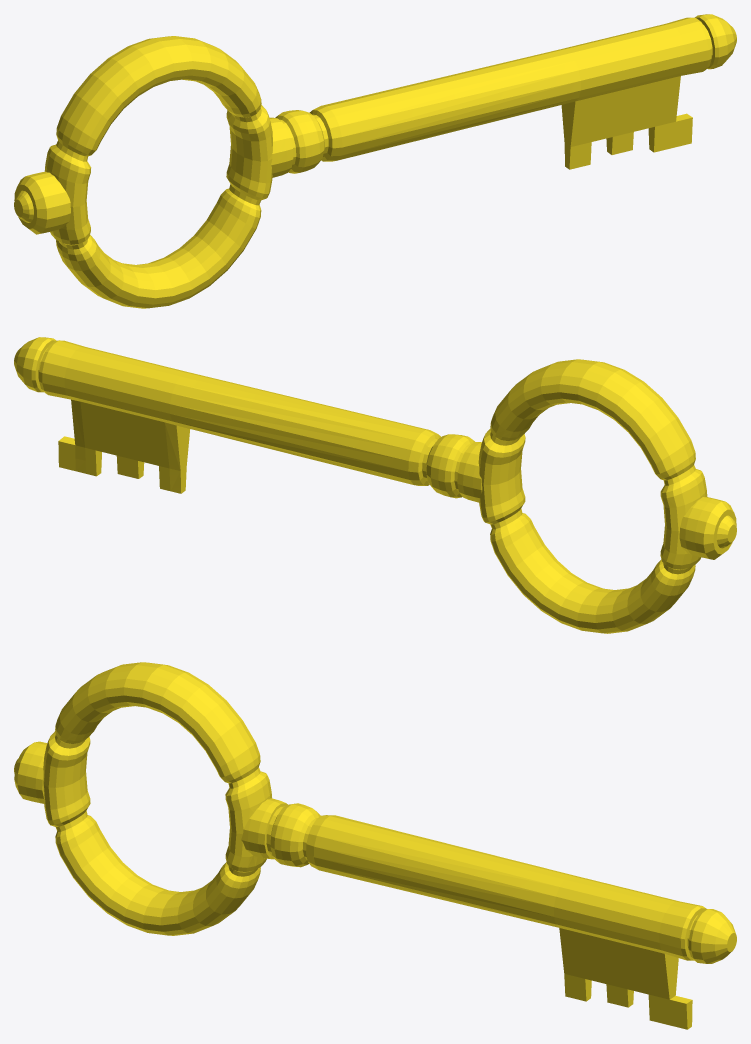
File: key.fbx
3 views of the same model, one above another, from view 1: azimuth 30°, elevation 25°; view 2: azimuth 150°, elevation 25°; view 3: azimuth 330°, elevation 25° (orthographic).
Parts seen in each view (by area): view 1: key; view 2: key; view 3: key.
Boxes of the visible parts, <box> form: key: <box>14,14,736,308</box>; key: <box>14,337,736,633</box>; key: <box>14,662,736,1029</box>.
Size of the model in its own units: 0.3166 by 0.1113 by 0.0247.
